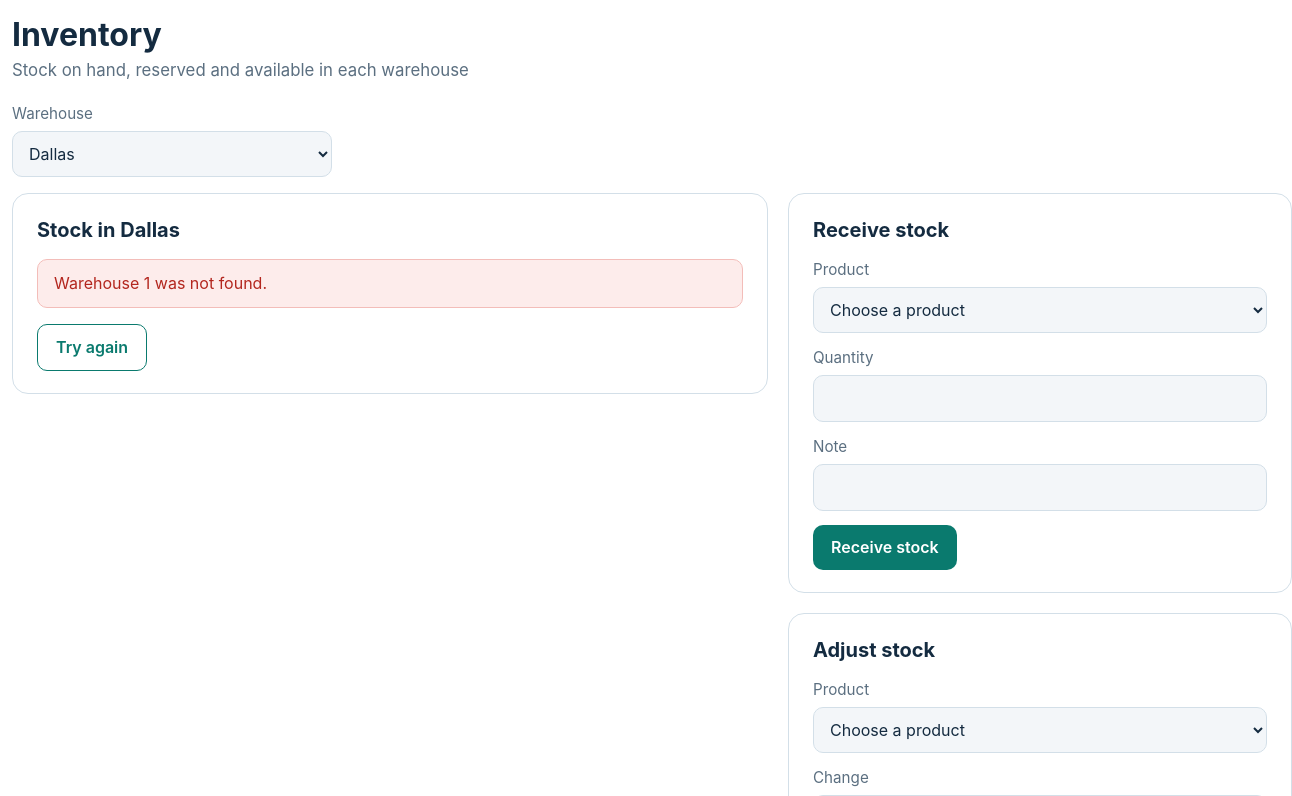
Test case: InventoryPage stock view › shows the server error when stock cannot be loaded, with a retry
Check: the message reads "Warehouse 1 was not found.", box [54,273,267,293]
Click the button "Try again": (92, 348) [37,324,147,371]
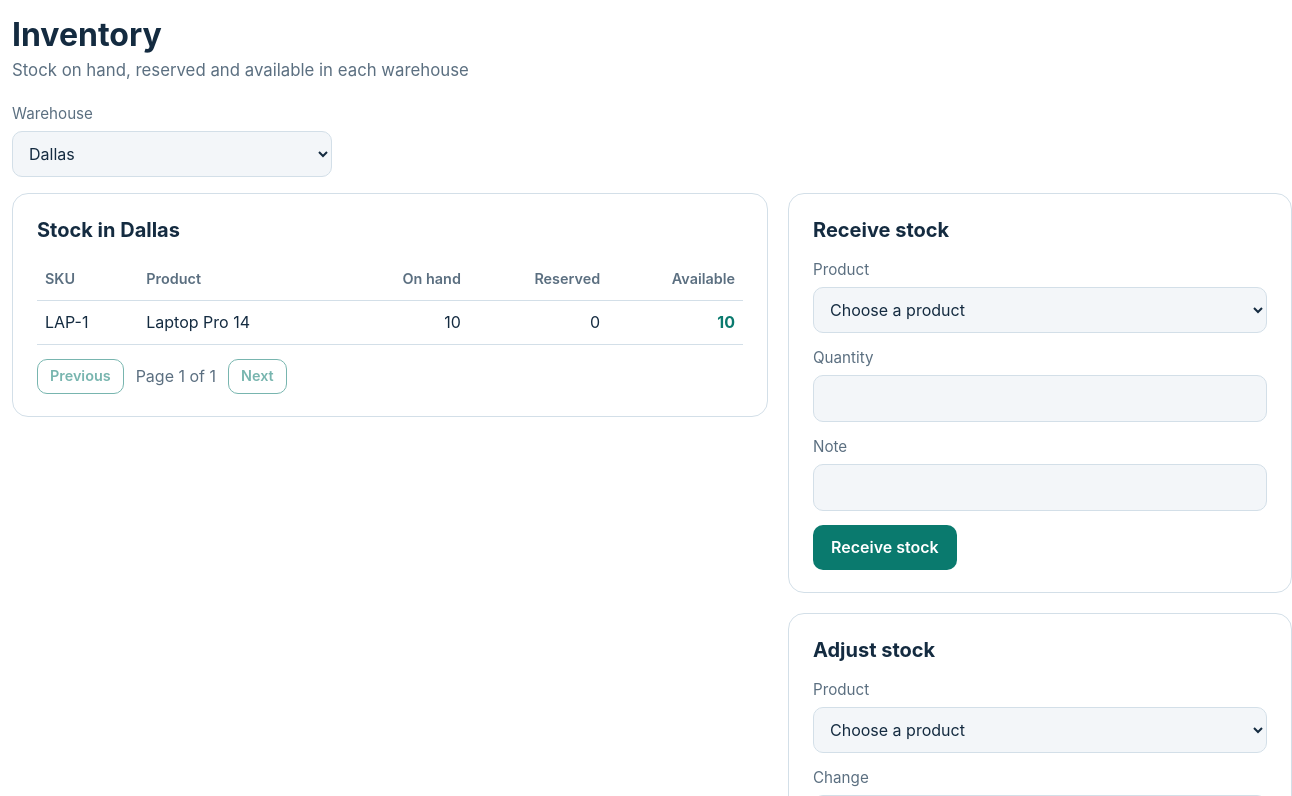
Check: the text "LAP-1" is shown, box [37,300,138,344]
